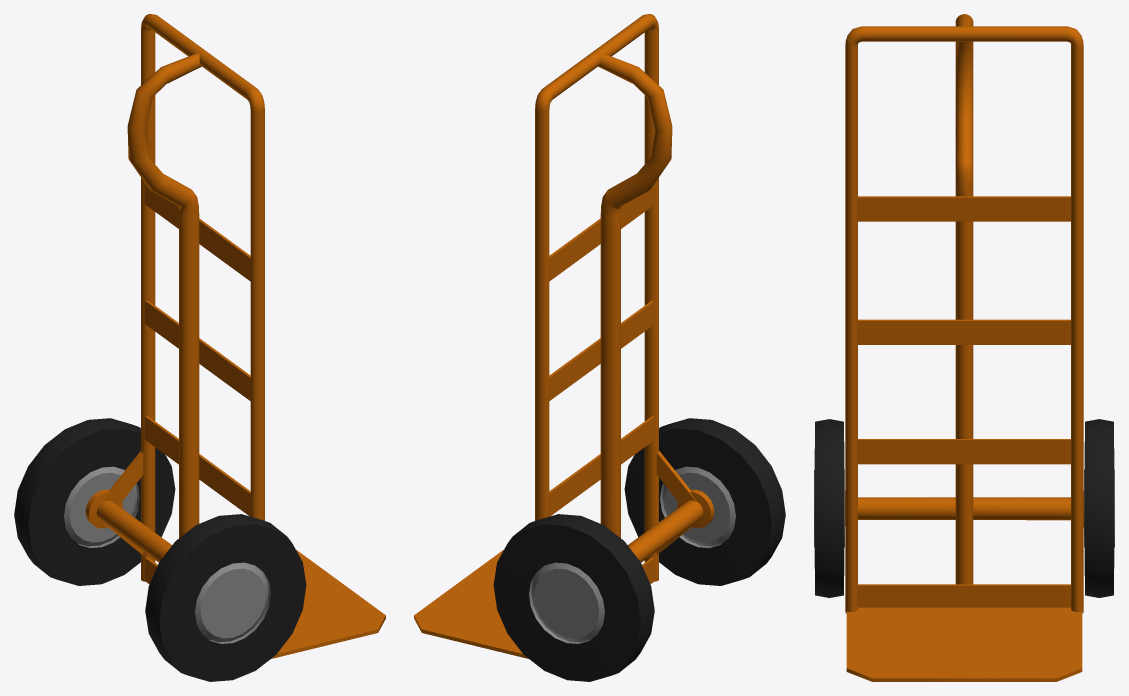
Rendered from HandTruck.fbx.
3 views of the same model, side by side, from view 1: azimuth 30°, elevation 25°; view 2: azimuth 150°, elevation 25°; view 3: azimuth 270°, elevation 25° (orthographic). The views are drawn at different scales.
Parts seen in each view (by area): view 1: HandTruck; view 2: HandTruck; view 3: HandTruck.
Part boxes in pixels (x1,y1,x2,y2): HandTruck: (14, 14, 385, 681); HandTruck: (414, 14, 785, 681); HandTruck: (814, 14, 1114, 681).
Size of the model in its own units: 1.08 by 2.28 by 1.06.
